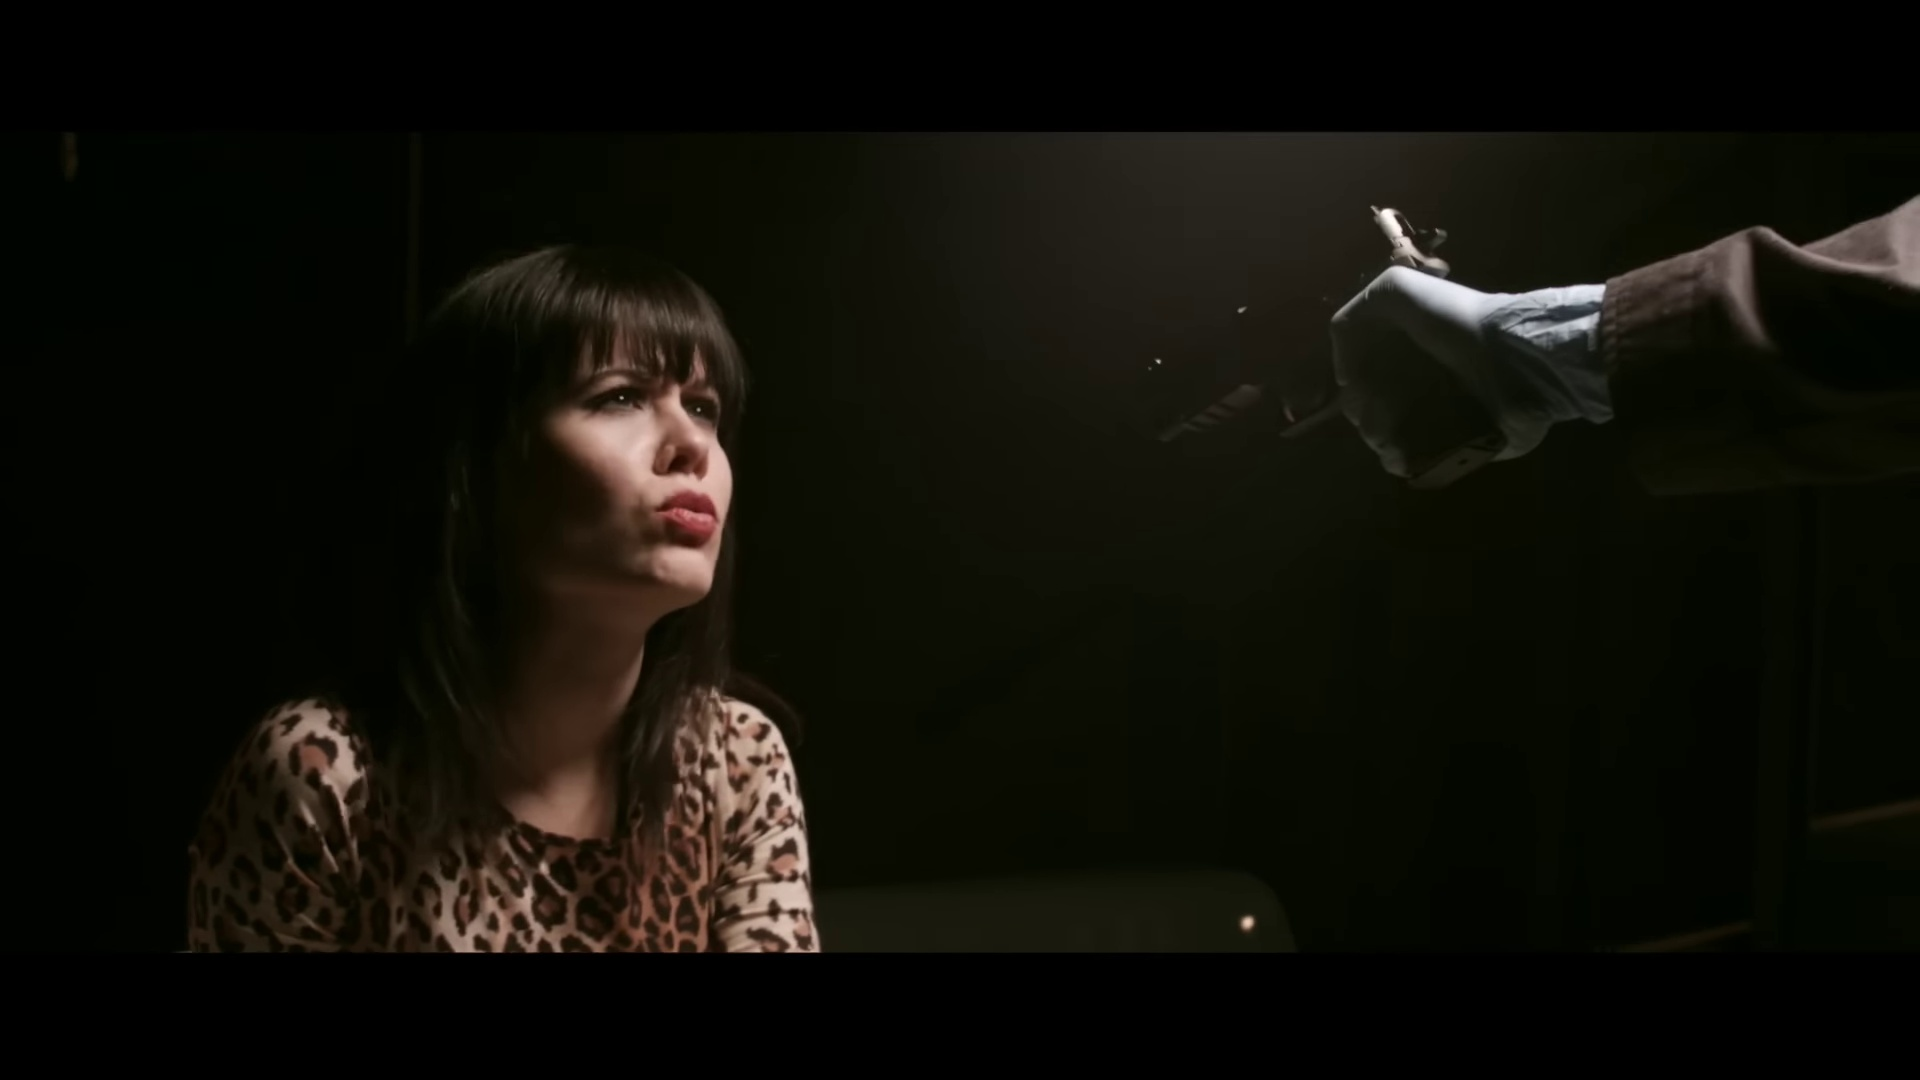gun: (1120, 194, 1519, 501)
p_w_gun: (1112, 175, 1920, 517)
p_wo_gun_not_carrying_normal_pose: (173, 233, 825, 951)
